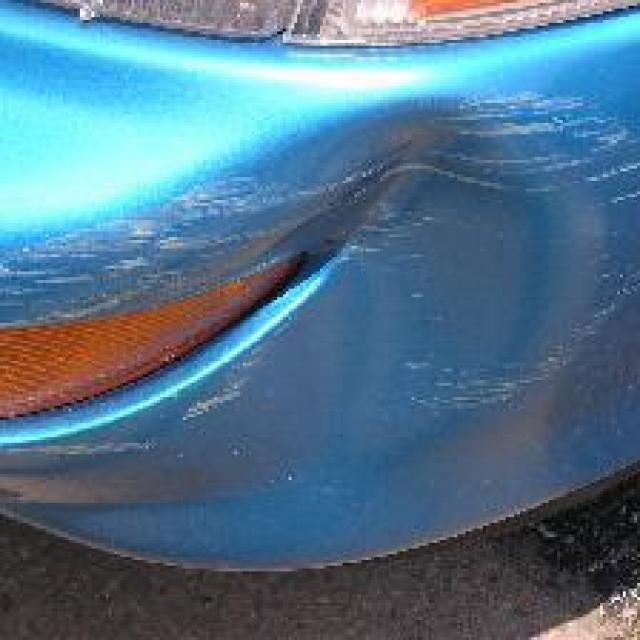damaged: (0, 89, 637, 468)
